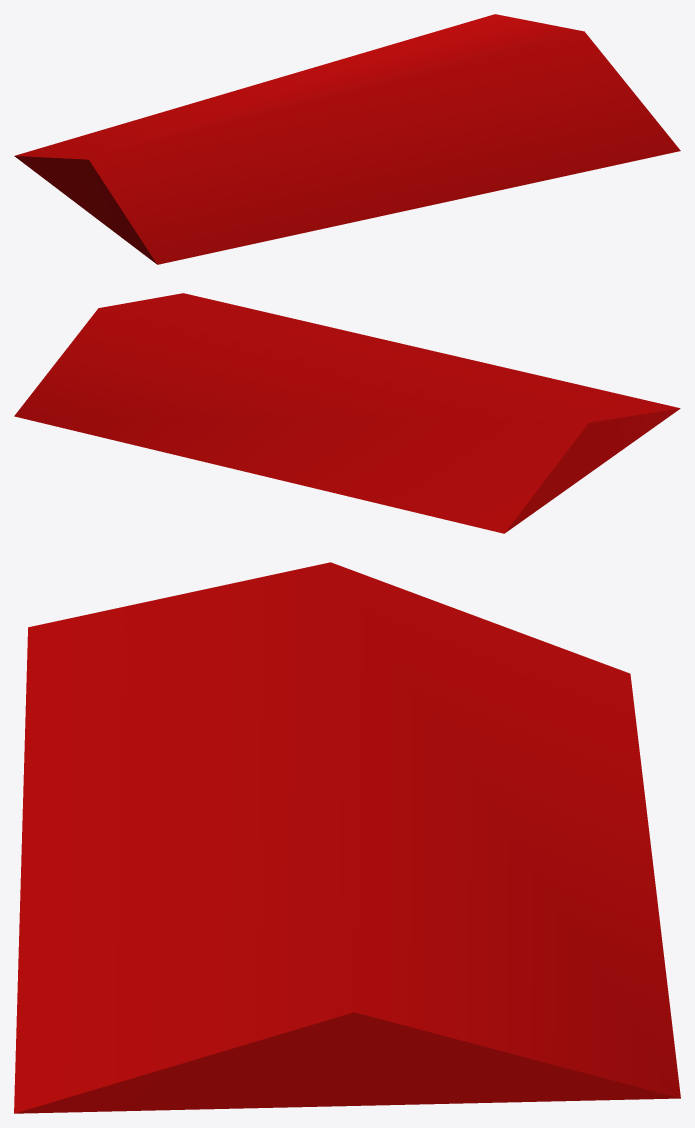
Rendered from canopy_6_cloth.glb.
The picture shows the model from 3 angles, top to bottom: view 1: azimuth 30°, elevation 25°; view 2: azimuth 150°, elevation 25°; view 3: azimuth 270°, elevation 25°; orthographic projection. The views are drawn at different scales.
Visible parts, largest first — view 1: MODEL_s_bazaar_cloth_lod0; view 2: MODEL_s_bazaar_cloth_lod0; view 3: MODEL_s_bazaar_cloth_lod0.
Part boxes in pixels (x1,y1,x2,y2): MODEL_s_bazaar_cloth_lod0: [14, 14, 680, 264]; MODEL_s_bazaar_cloth_lod0: [14, 293, 680, 533]; MODEL_s_bazaar_cloth_lod0: [14, 562, 680, 1113].
Size of the model in its own units: 2.12 by 0.2273 by 1.28.
